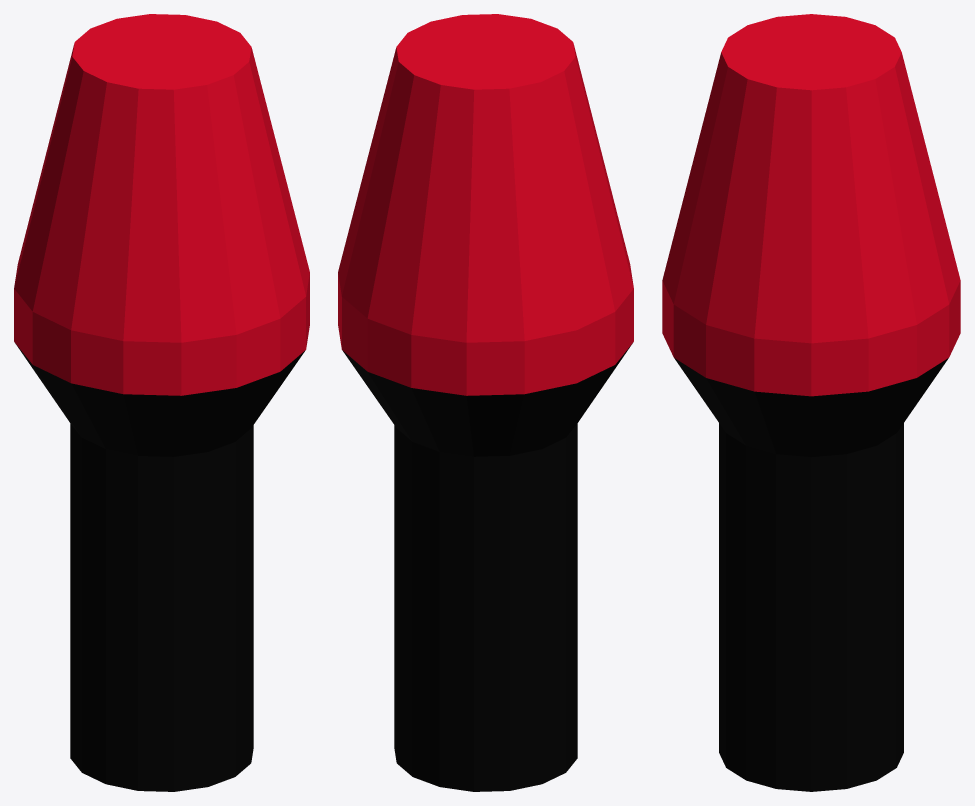
The model's file is RFIDSensor.fbx.
The picture shows the model from 3 angles, left to right: view 1: azimuth 30°, elevation 25°; view 2: azimuth 150°, elevation 25°; view 3: azimuth 270°, elevation 25°; orthographic projection.
Parts seen in each view (by area): view 1: Cylinder; view 2: Cylinder; view 3: Cylinder.
Boxes of the visible parts, box(x1,y1,x2,y2) form: Cylinder: box(14, 14, 309, 791); Cylinder: box(338, 14, 633, 791); Cylinder: box(662, 14, 960, 791).
Bounding box in the file's own units: 16.15 × 41.86 × 16.15.
